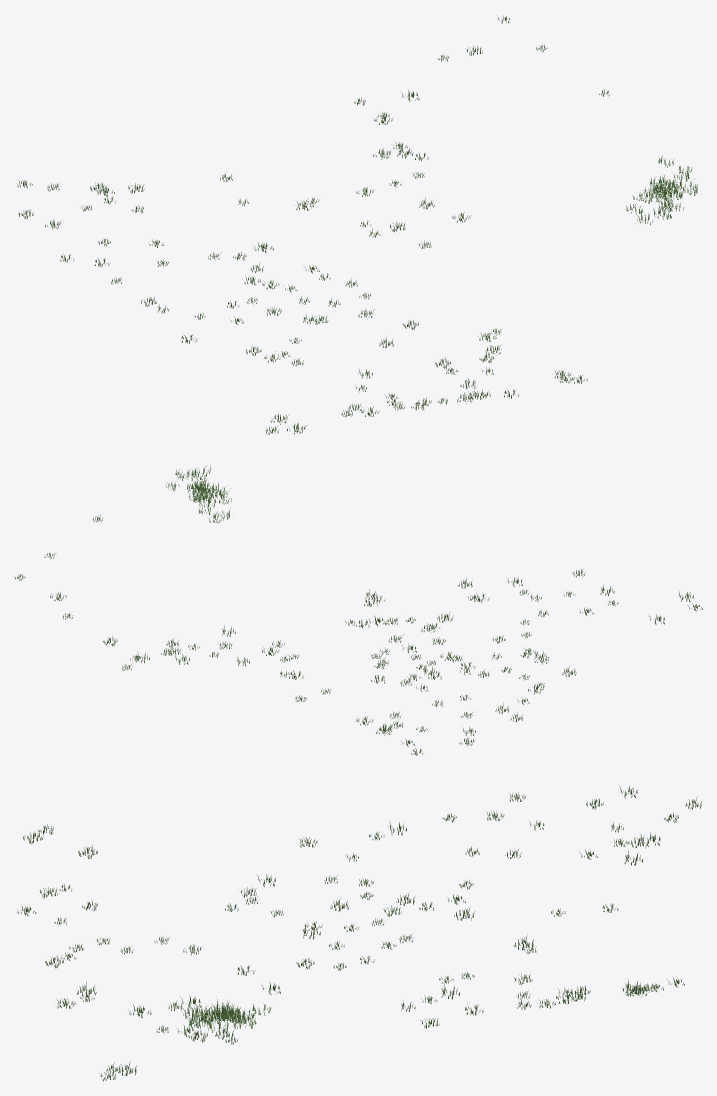
The model's file is P2N_forest_grass_-8_6.glb.
3 renders of one model, top to bottom at view 1: azimuth 30°, elevation 25°; view 2: azimuth 150°, elevation 25°; view 3: azimuth 270°, elevation 25°, orthographic. The views are drawn at different scales.
Parts seen in each view (by area): view 1: P2N_forest_grass_-8_6; view 2: P2N_forest_grass_-8_6; view 3: P2N_forest_grass_-8_6.
Boxes of the visible parts, box(x1,y1,x2,y2) form: P2N_forest_grass_-8_6: box(16, 15, 701, 434); P2N_forest_grass_-8_6: box(14, 466, 702, 755); P2N_forest_grass_-8_6: box(17, 785, 701, 1081).
Bounding box in the file's own units: 32.54 × 9.5 × 32.54.
